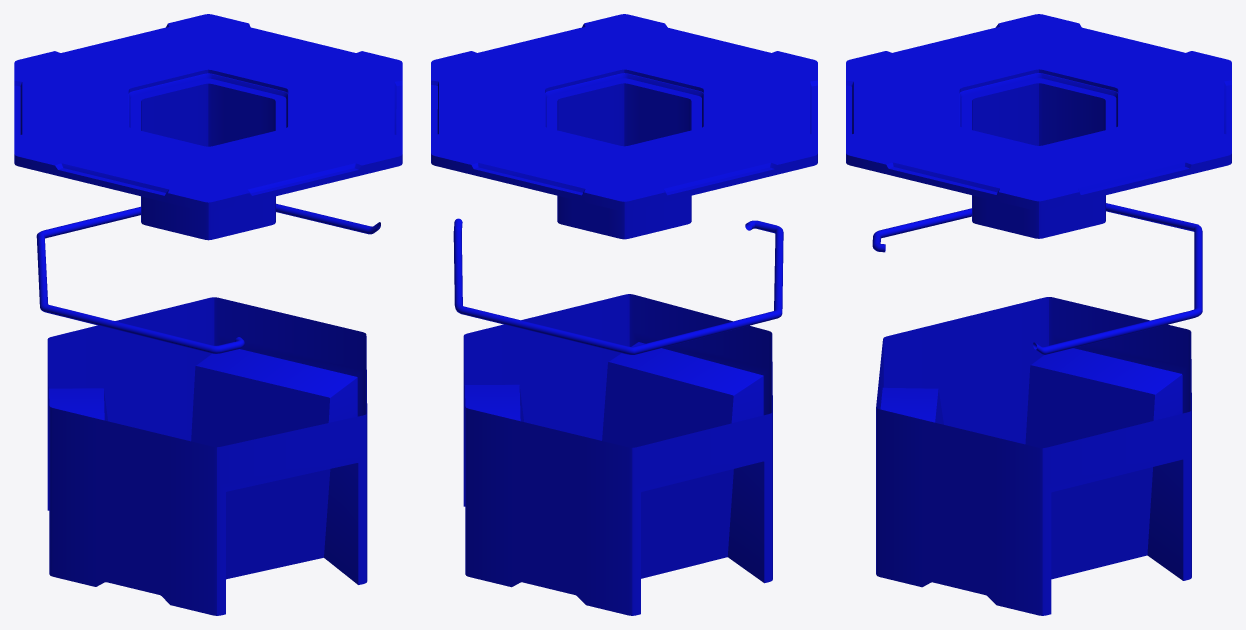
Rendered from PT_Low_EXP.FBX.
3 views of the same model, side by side, from view 1: azimuth 30°, elevation 25°; view 2: azimuth 150°, elevation 25°; view 3: azimuth 270°, elevation 25° (orthographic).
Visible parts, largest first — view 1: Pillar_Table_Low_EXP; view 2: Pillar_Table_Low_EXP; view 3: Pillar_Table_Low_EXP.
Boxes of the visible parts, x1,y1,x2,y2 form: Pillar_Table_Low_EXP: (14, 14, 402, 615); Pillar_Table_Low_EXP: (431, 14, 817, 615); Pillar_Table_Low_EXP: (846, 14, 1231, 615).
Size of the model in its own units: 70.99 by 76.22 by 61.77.
